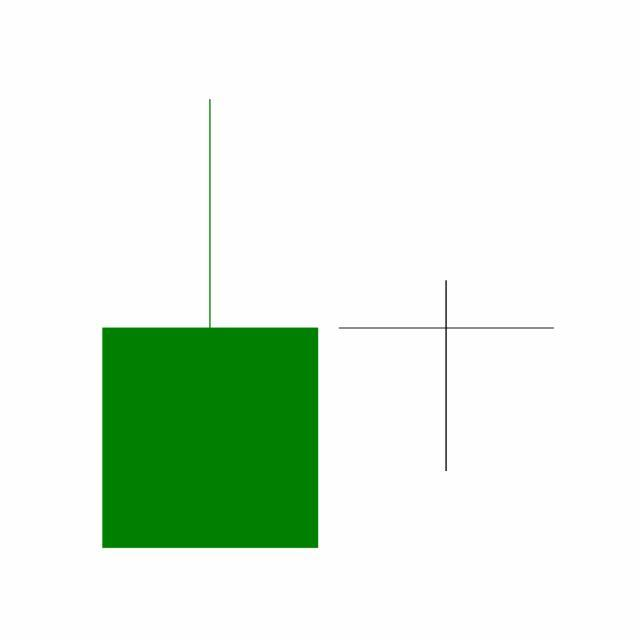Spinning Top: (328, 279, 566, 475)
